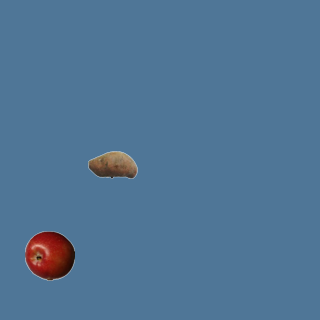Apple Braeburn: (24, 230, 74, 280)
Potato Sweet: (87, 139, 137, 189)
